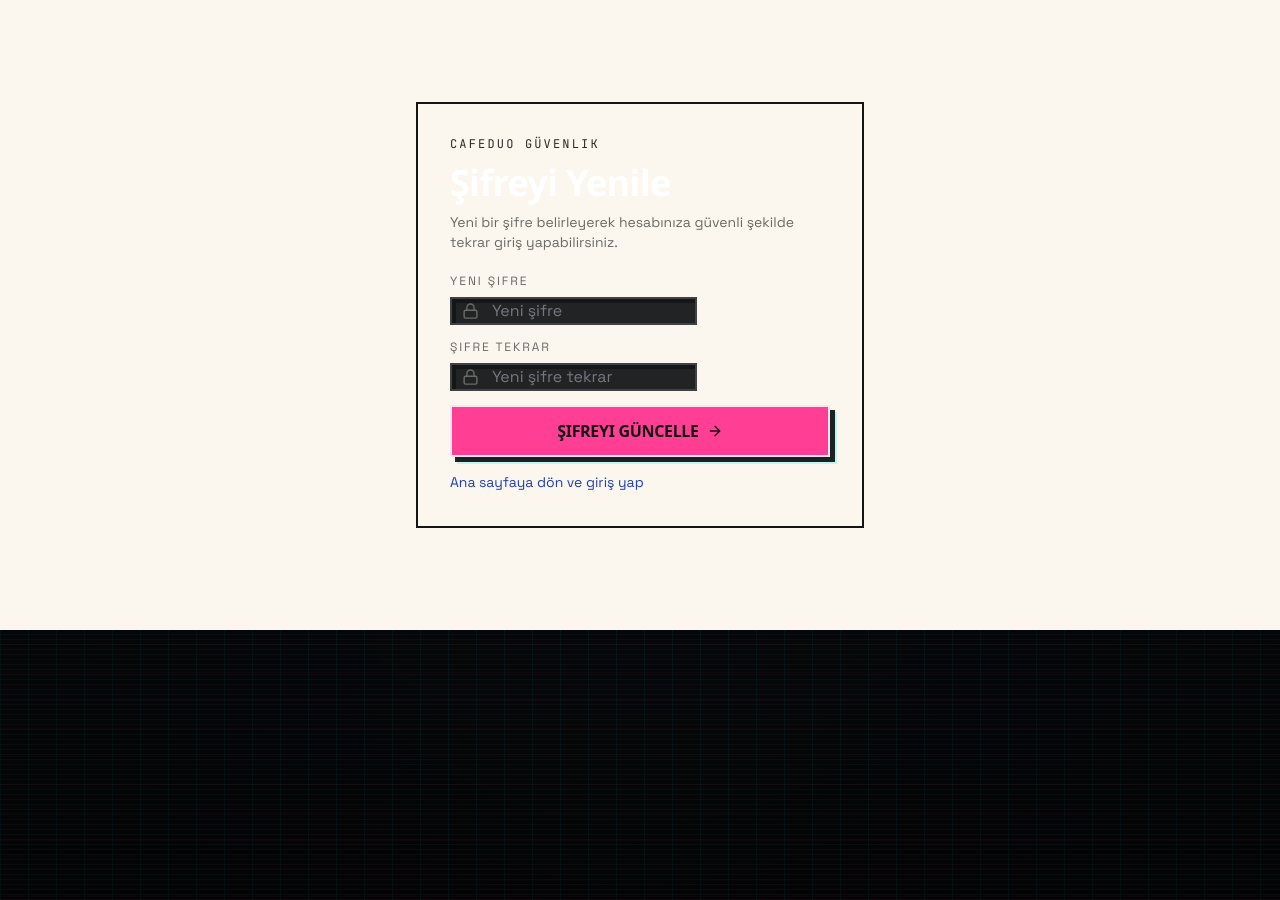
Test: ResetPasswordPage › submits reset request with token from query string
Type "new-pass-123" into the password field with placeholder "Yeni Şifre" at [574, 311], box [450,297,697,325]
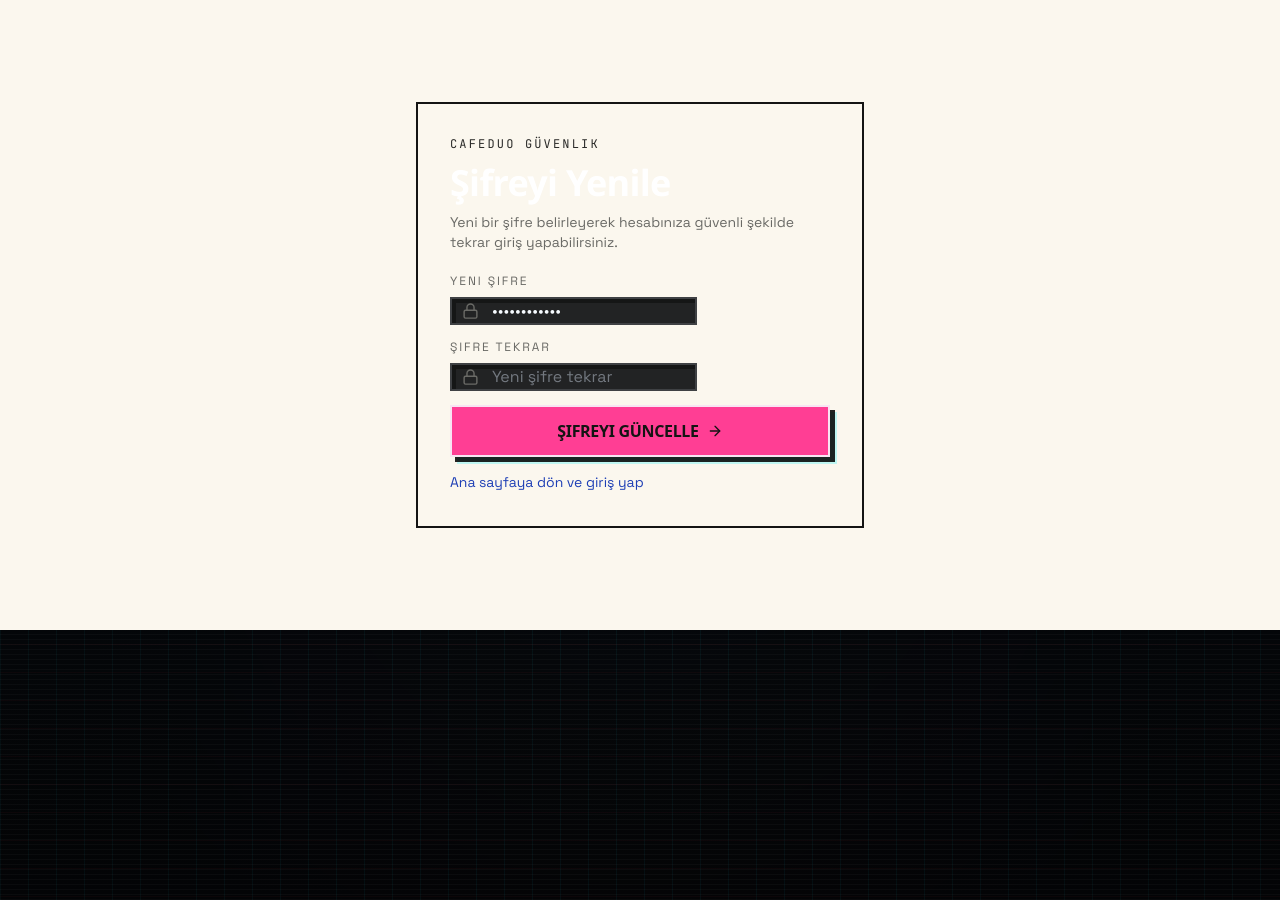
Type "new-pass-123" into the password field with placeholder "Yeni şifre tekrar" at [574, 377], box [450,363,697,391]
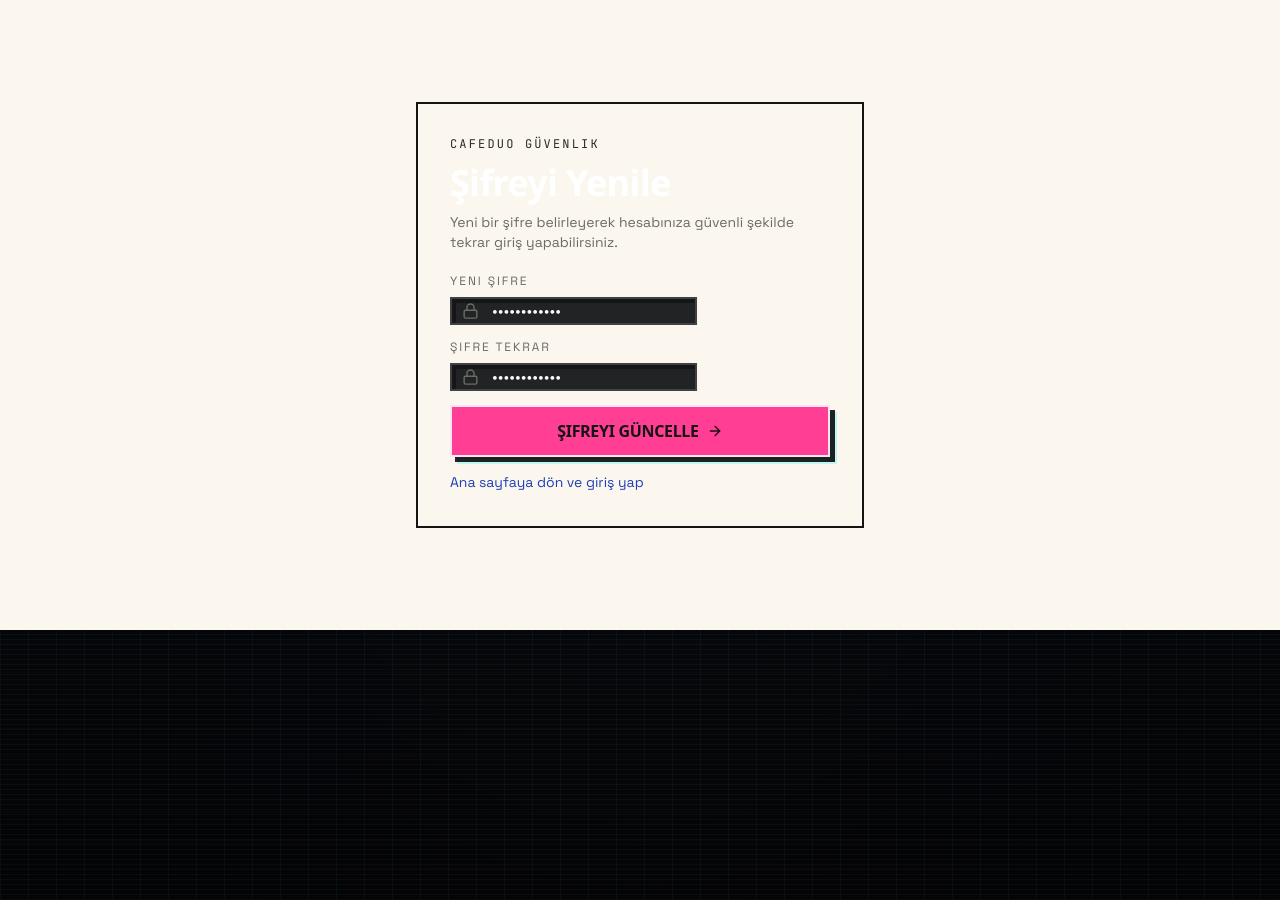
Click the button "Şifreyi Güncelle" at [640, 431], box [450,405,830,457]
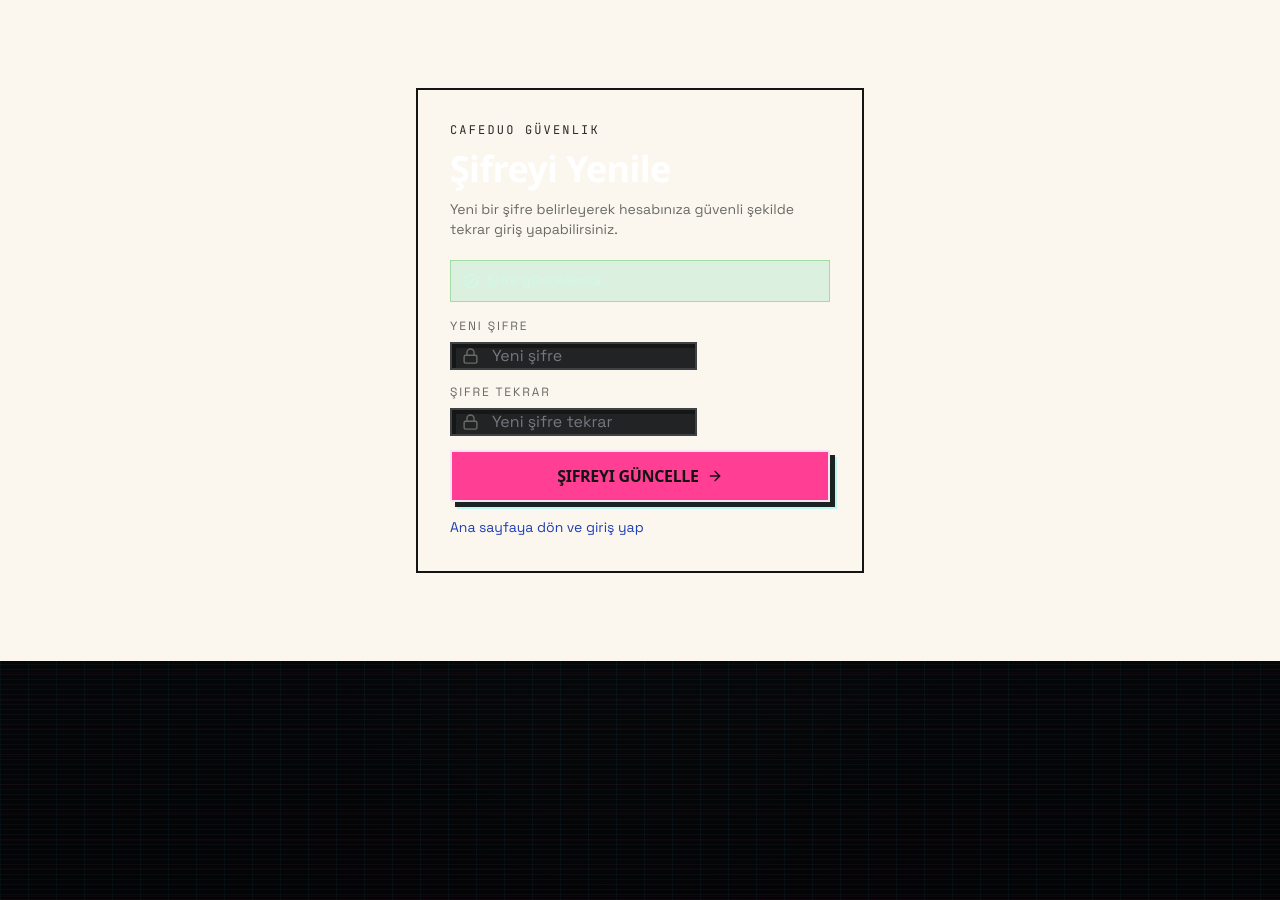
expect the text "Şifre güncellendi." is shown: met, box [450,260,830,302]
